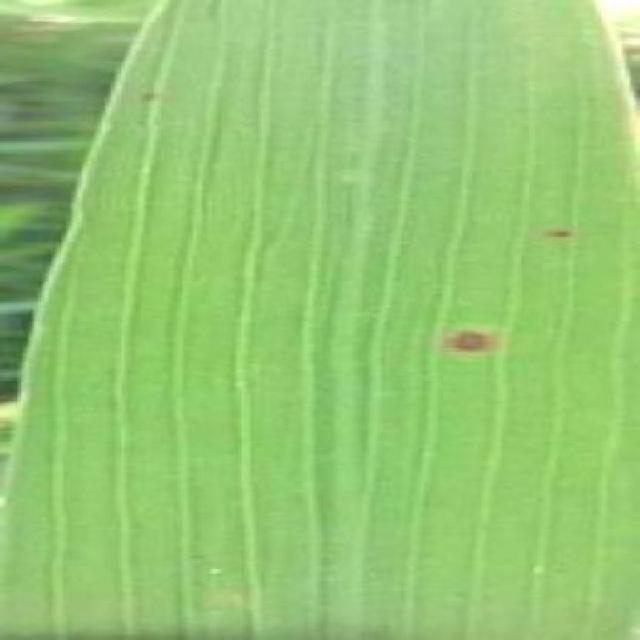Leaf_Blast: (432, 314, 502, 363), (533, 217, 582, 241), (132, 82, 165, 106)
